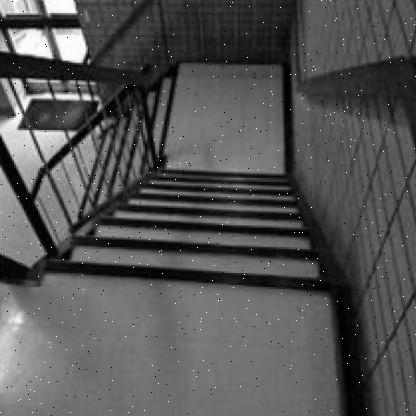stair_down: (53, 188, 352, 334)
